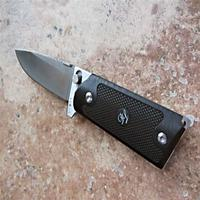knife: (10, 43, 189, 161)
